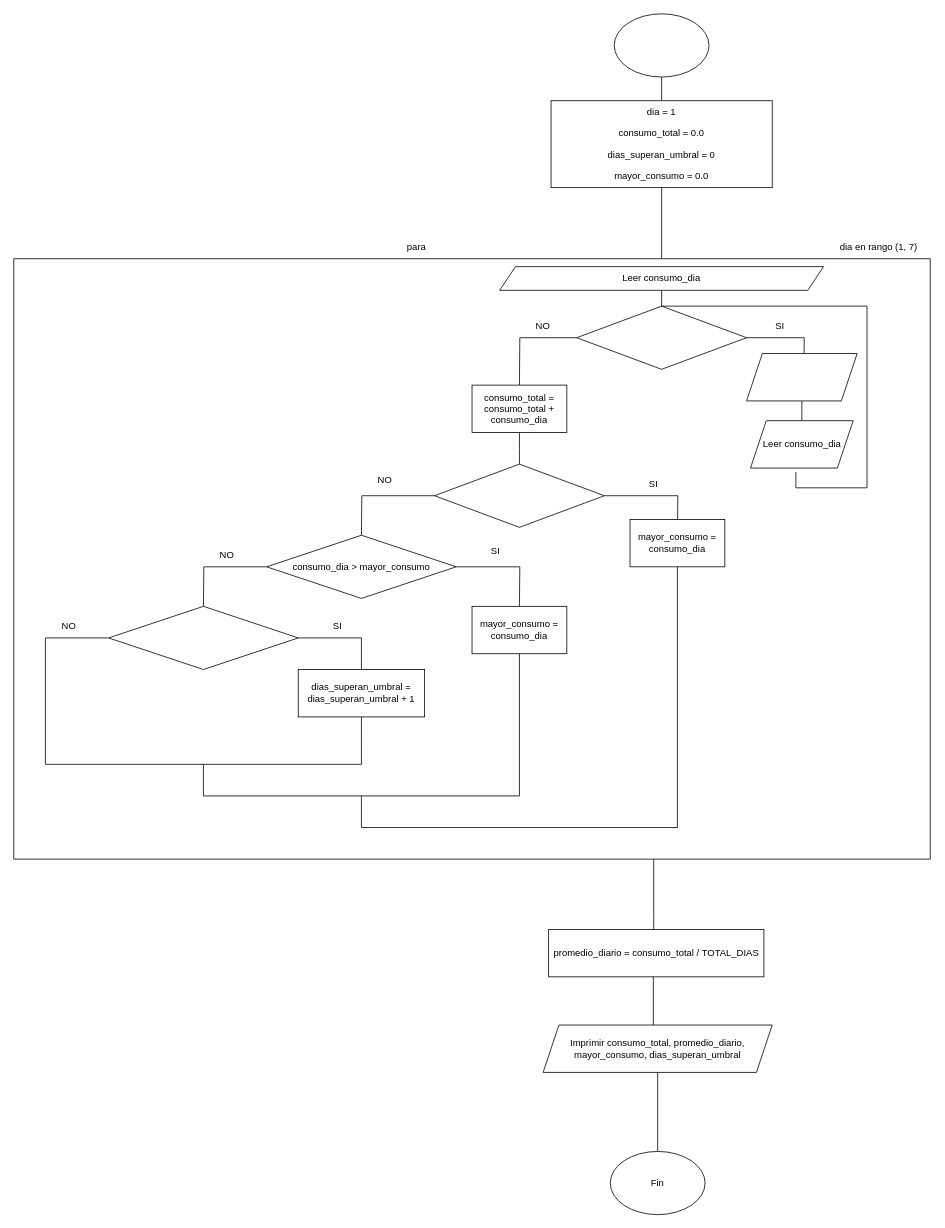
The diagram is 945 pixels wide and 1228 high, and some of its shapes have lost their labels. The centre of each missing label's shape, as x and y in pixels:
consumo_dia < 0: point 661,337
consumo_dia > UMBRAL_CONSUMO: point 203,638
dia == 1: point 519,495
Imprimir "Error: El consumo no puede ser menor a 0": point 801,377
Inicio: point 661,45
